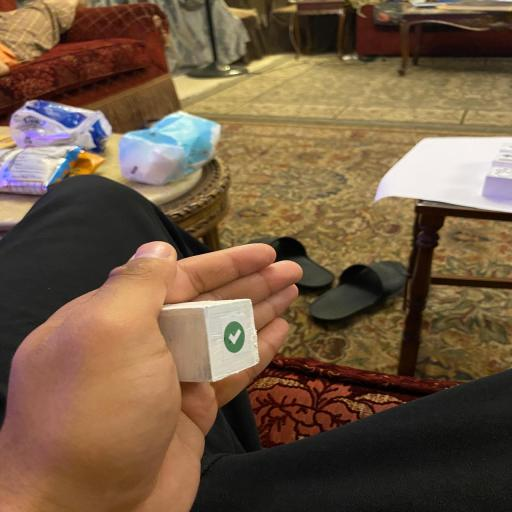Confirm: (158, 296, 260, 384)
